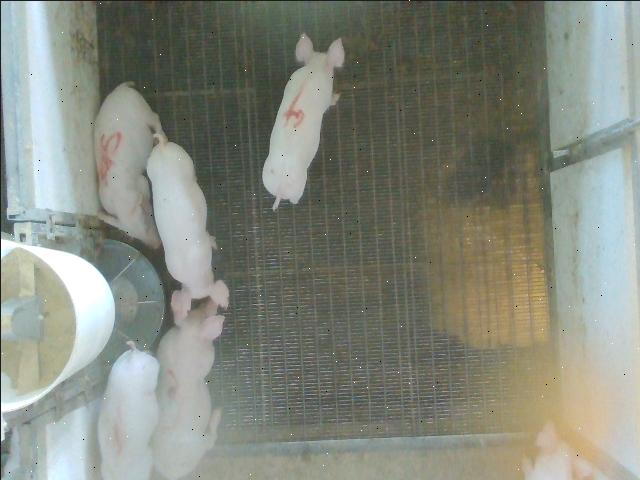pig-1: (99, 340, 159, 479)
pig-3: (151, 298, 222, 478)
pig-4: (261, 32, 344, 208)
pig-5: (94, 81, 161, 246)
